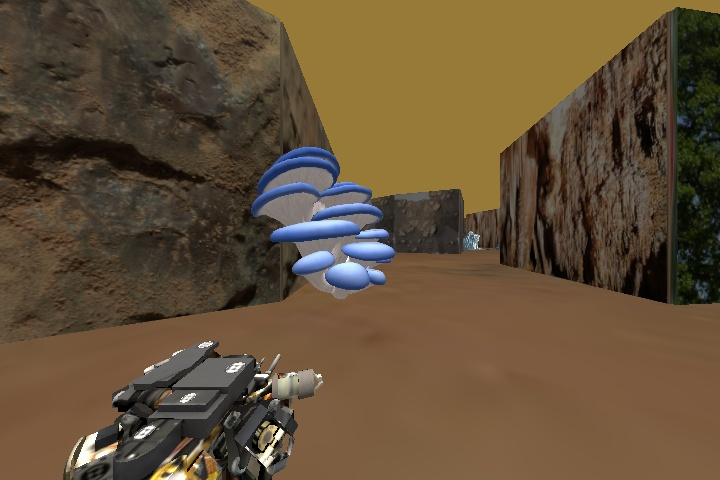minerals: (462, 230, 480, 250)
mushroom: (251, 144, 398, 298)
